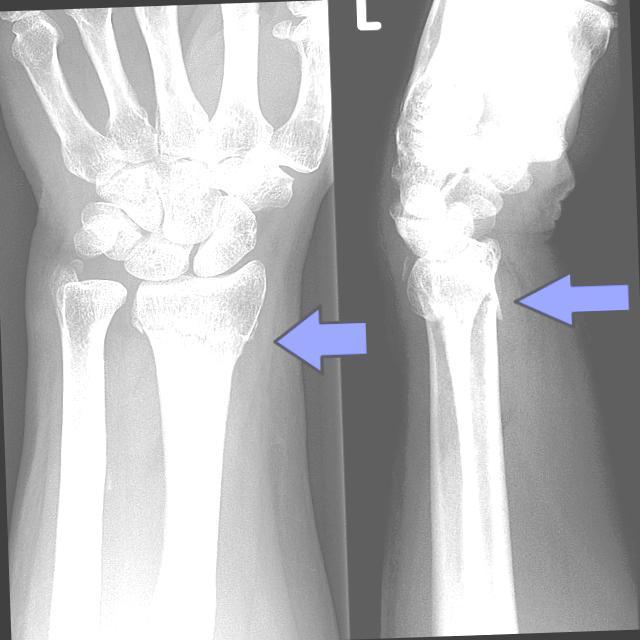Impact Fracture: (140, 309, 236, 356), (460, 272, 503, 329)
